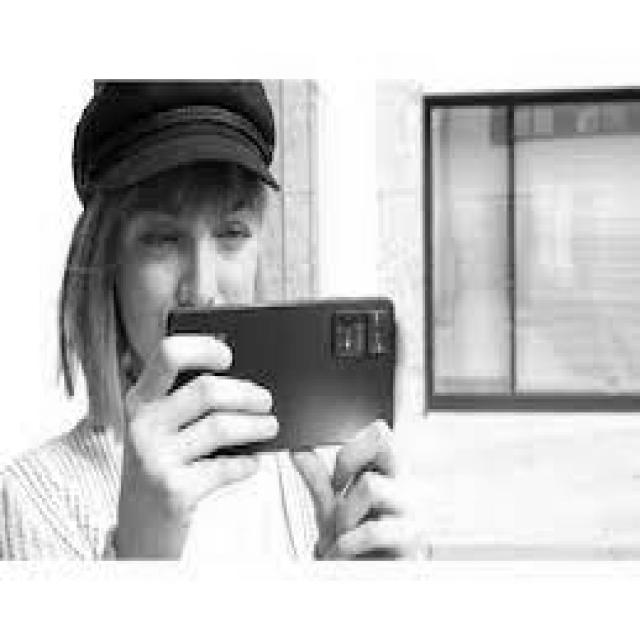No gun_phone: (166, 298, 398, 458)
